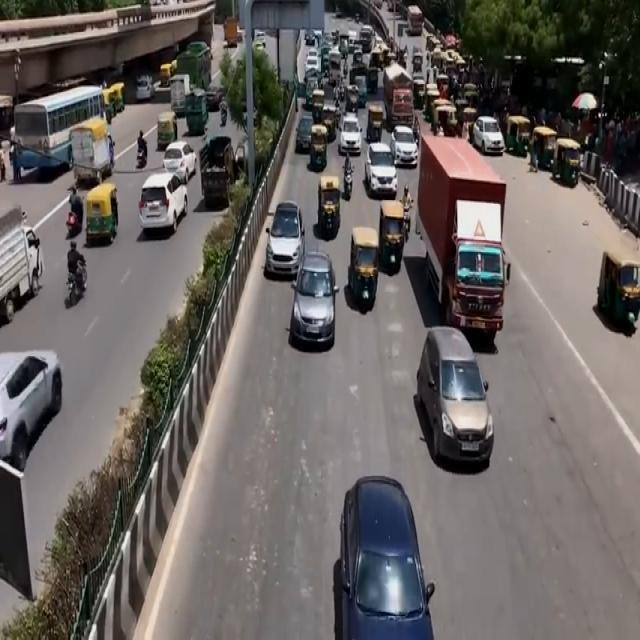BUS: (15, 87, 114, 185)
TRUCK: (416, 144, 508, 351), (0, 211, 42, 332)
